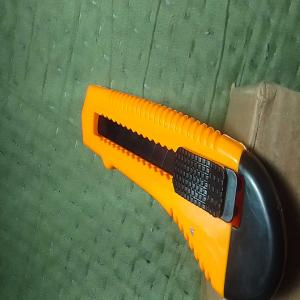estilete: (80, 82, 288, 300)
